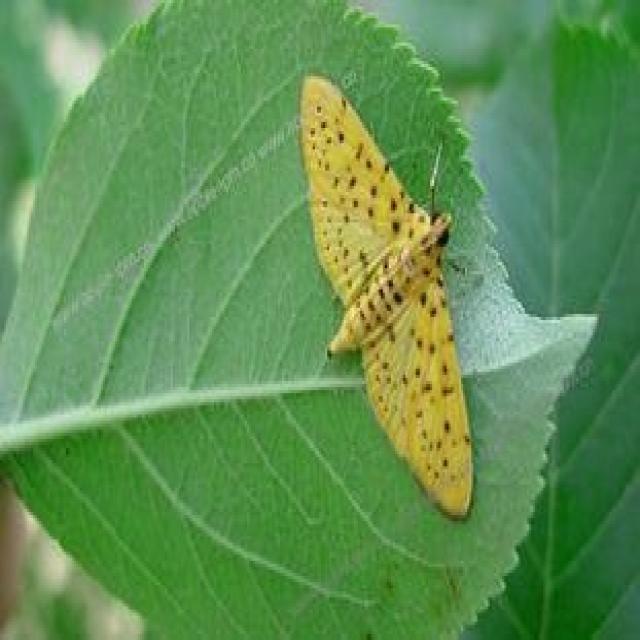peach borer: (294, 73, 498, 521)
